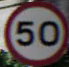Speed limit: (5, 2, 65, 60)
